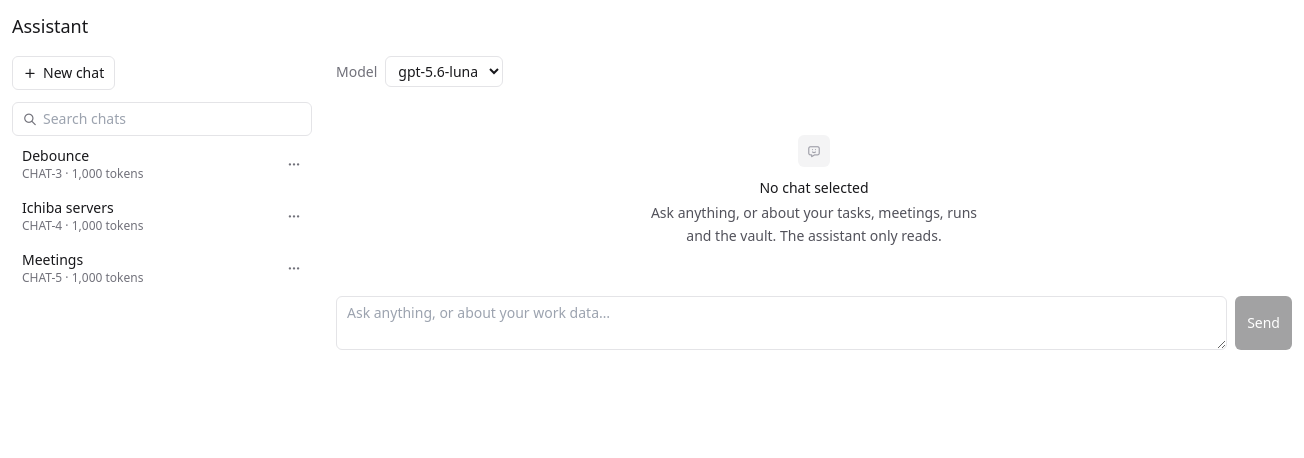
Test: edit and resend › AC-11: saving POSTs /messages/CHAT-3-M1/edit with the new text and drops the later turns
Click the button "Debounce CHAT-3 · 1,000 tokens" at (144, 164), box [12, 140, 276, 188]
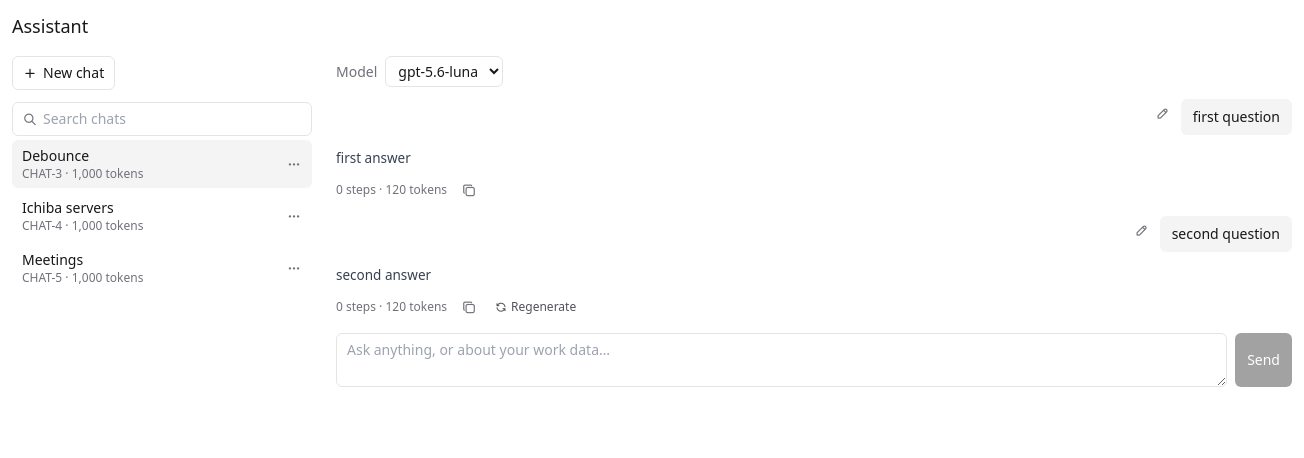
Expected: the text "second answer" is shown, [336, 266, 431, 284]
Click the button named "Edit question" next to "first question" at (1163, 113), box [1149, 99, 1177, 127]
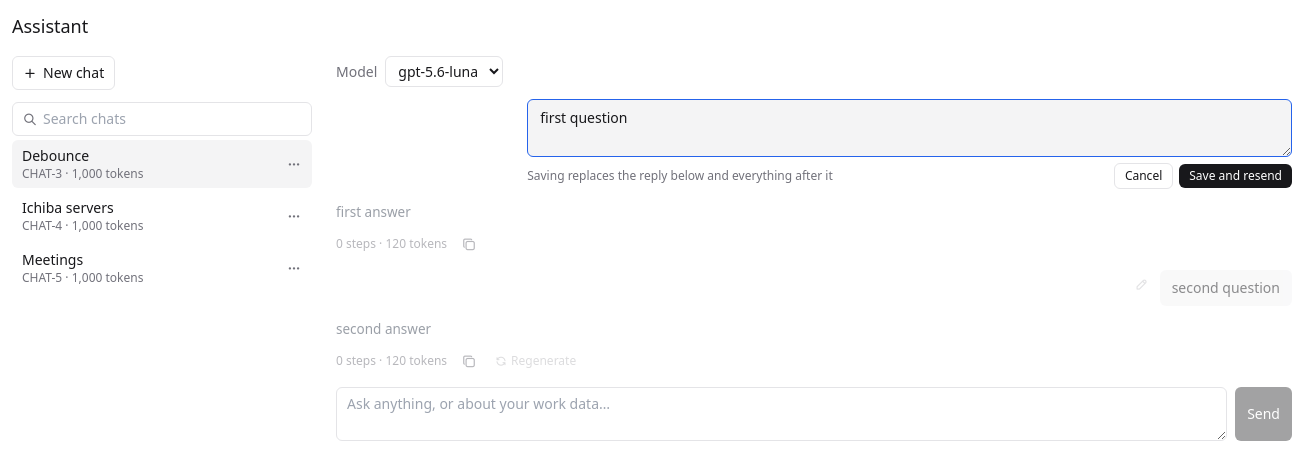
Replace the text in the text box named "Edit question" with "first question, edited" at (910, 128), box [527, 99, 1292, 157]
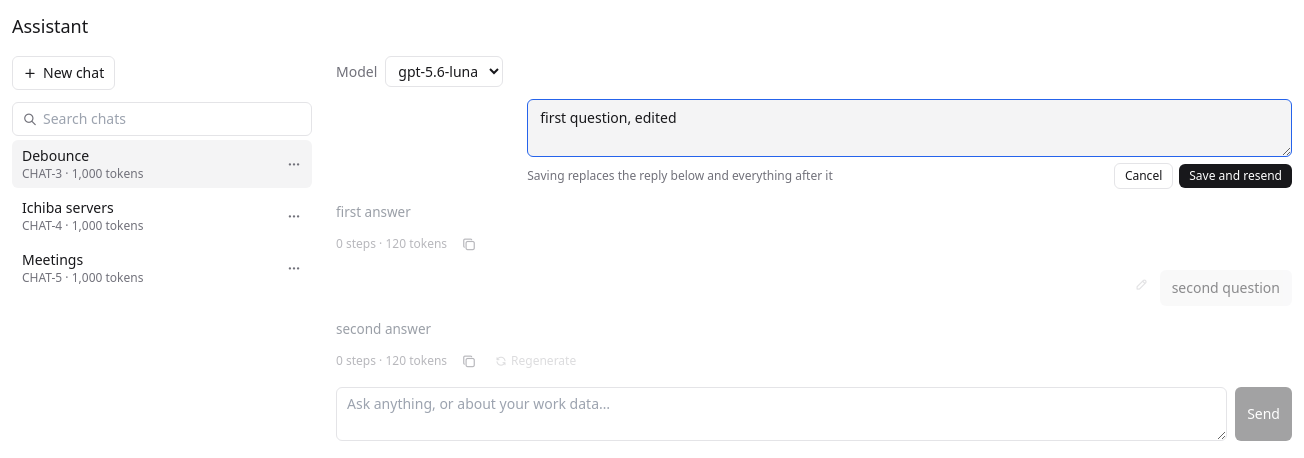
Click the button "Save and resend" at (1236, 176), box [1179, 164, 1292, 188]
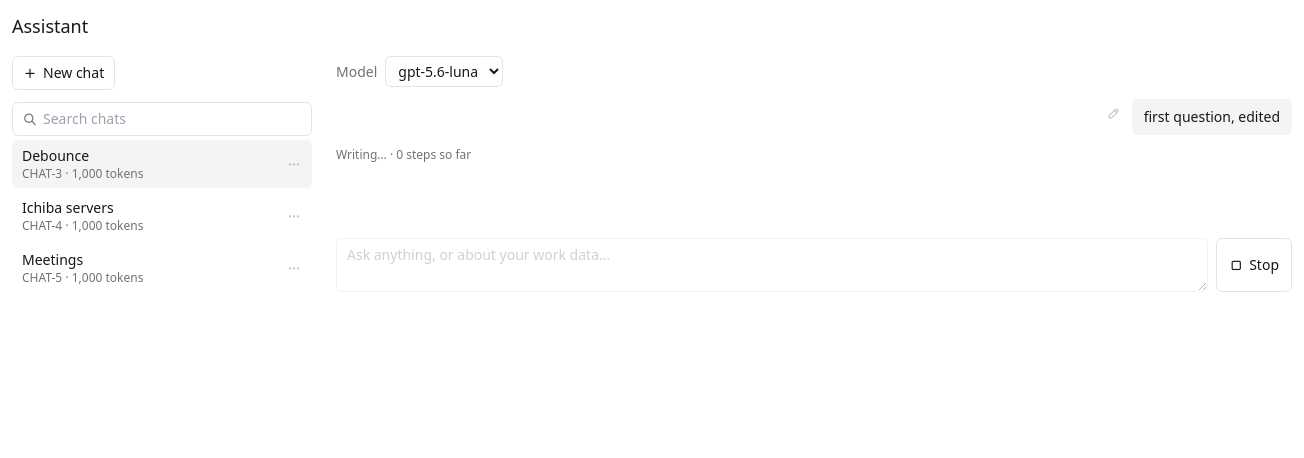
Expected: the text "second answer" is gone
Expected: the text "first answer" is gone
Expected: the text "second question" is gone
